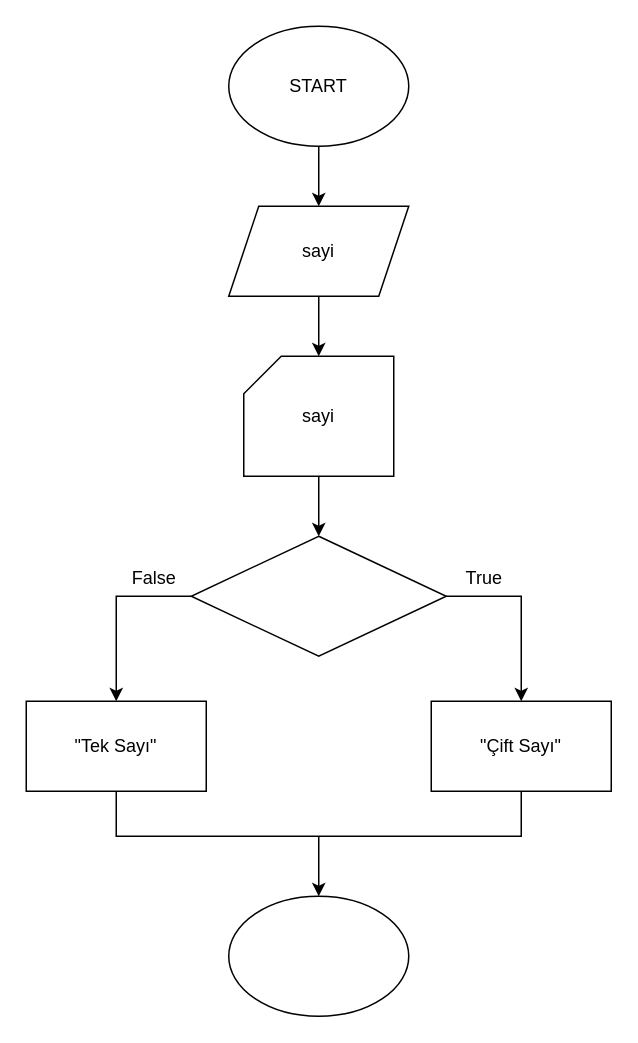
Image size: 638x1043. Some labels were removed from this diagram. The shapes that lost their labels are listed below. From the top down, each one's box as (x1, y1, x2, y2) in pixels, then its label:
(190, 535, 446, 656): sayi % 2 == 0
(227, 895, 409, 1016): STOP
